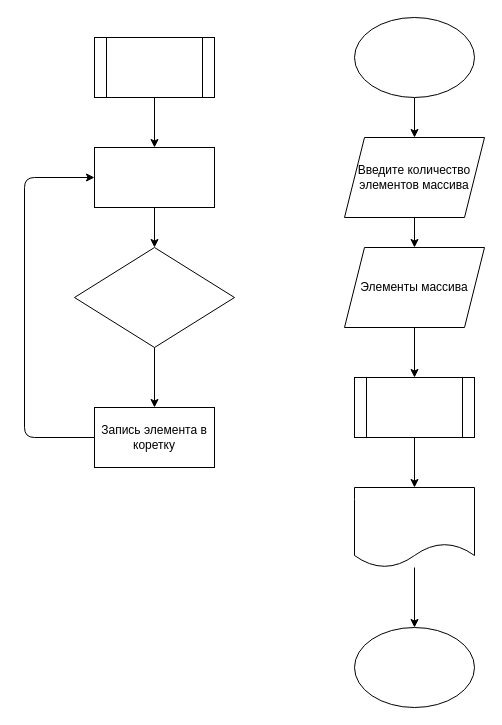
Image size: 502x725. Some labels were removed from this diagram. Each missing label, with the centre of its shape:
Количество значений элемента массива < 3?: the point at 154,297
Перебор элементов: the point at 154,177
